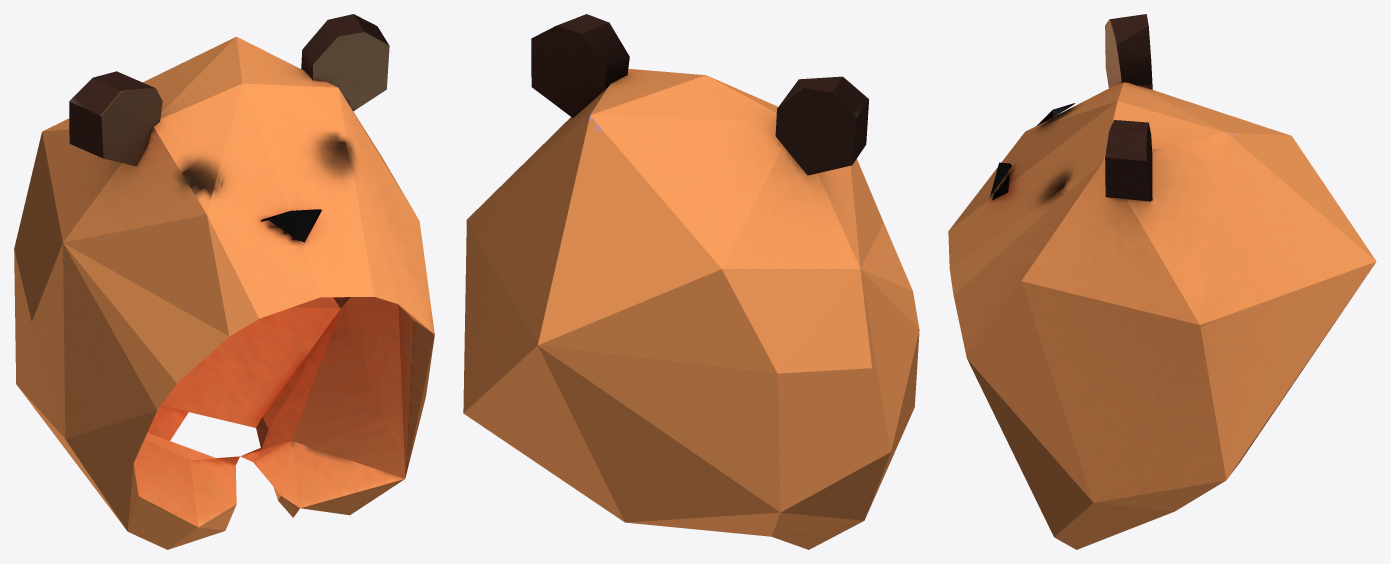
The model's file is Hood.FBX.
3 renders of one model, left to right at view 1: azimuth 30°, elevation 25°; view 2: azimuth 150°, elevation 25°; view 3: azimuth 270°, elevation 25°, orthographic. The views are drawn at different scales.
Visible parts, largest first — view 1: Hood; view 2: Hood; view 3: Hood.
Part boxes in pixels (bbox=[...]): Hood: bbox=[14, 14, 434, 549]; Hood: bbox=[463, 14, 919, 549]; Hood: bbox=[948, 14, 1376, 549].
Bounding box in the file's own units: 435 × 469 × 526.
Materials: 1 (1 with a texture image).
